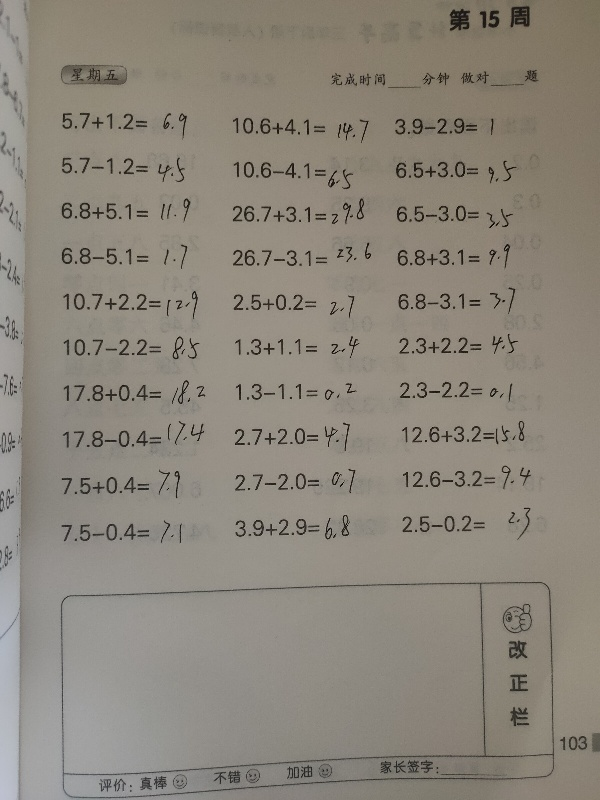equation: (59, 284, 207, 325), (388, 501, 544, 539), (229, 507, 361, 551), (47, 101, 195, 140), (51, 151, 195, 191), (56, 375, 211, 412), (227, 240, 376, 277), (225, 156, 365, 195), (55, 329, 207, 364), (49, 195, 196, 231), (228, 288, 372, 324), (57, 420, 213, 453), (391, 279, 517, 319), (389, 463, 540, 495), (227, 199, 372, 232), (227, 421, 360, 456), (225, 464, 365, 497), (395, 421, 543, 452), (391, 197, 521, 232), (55, 241, 201, 272), (395, 328, 520, 364), (229, 114, 372, 145), (58, 465, 183, 499), (227, 333, 368, 363), (391, 240, 520, 272), (59, 516, 186, 547), (392, 157, 521, 187), (396, 377, 516, 403), (233, 379, 360, 403), (392, 114, 498, 139)
